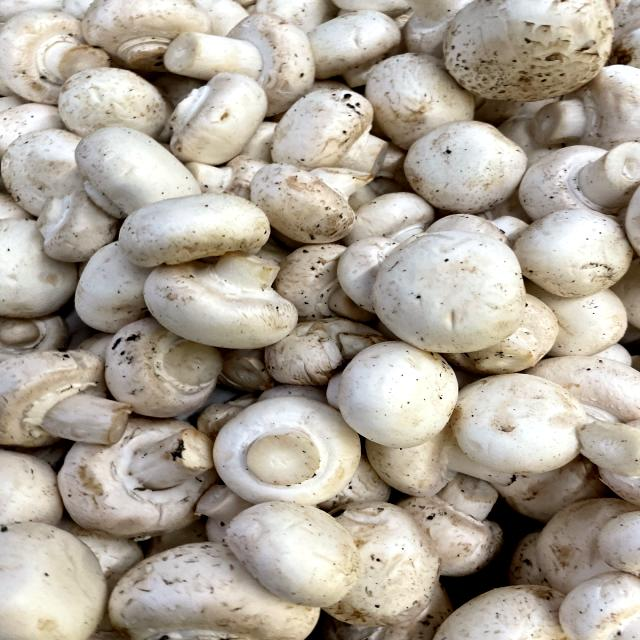mushroom: (45, 411, 228, 545), (197, 388, 375, 516), (367, 226, 532, 357), (136, 243, 313, 356), (160, 7, 323, 116), (262, 79, 398, 187)
